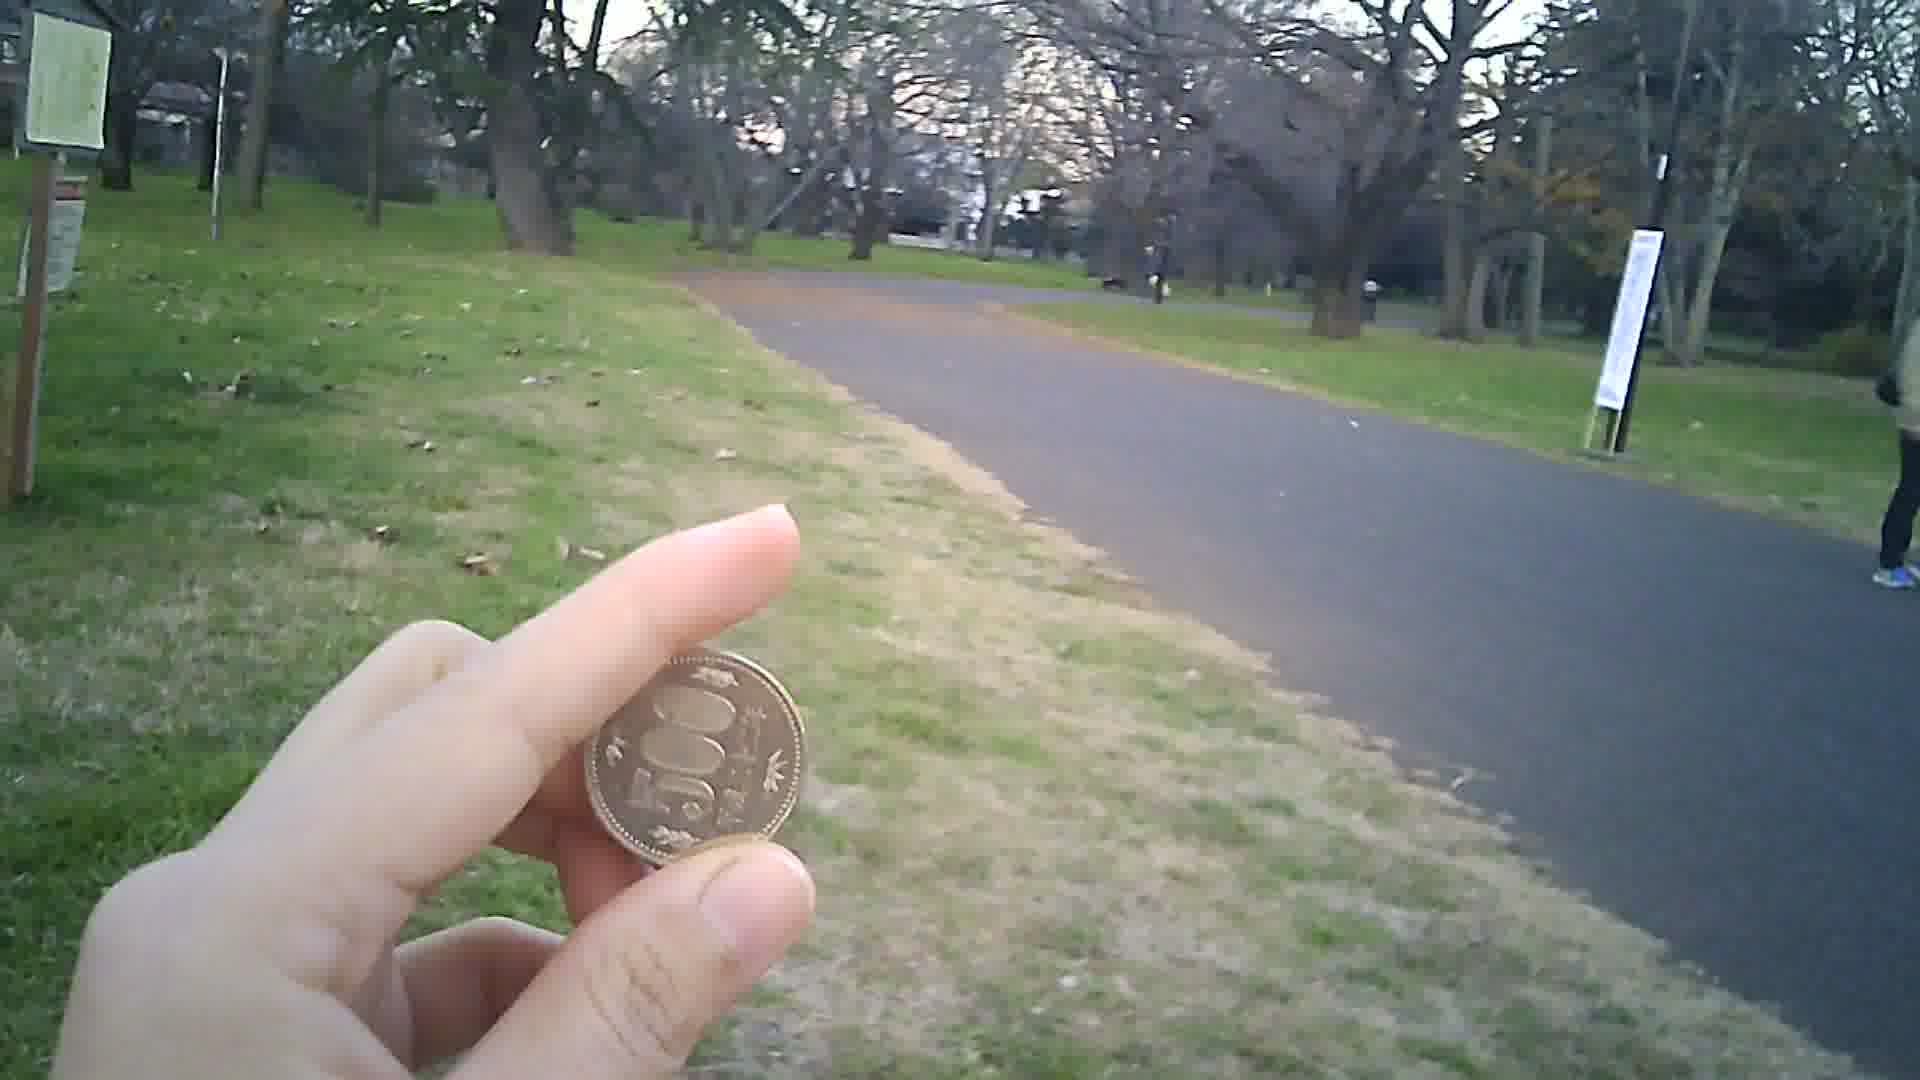500 Yen: (579, 637, 802, 872)
